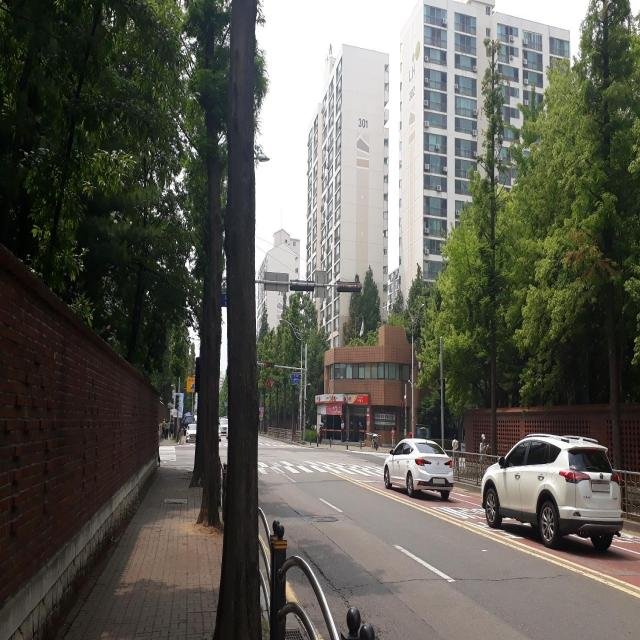횡단보도: (259, 457, 393, 478), (158, 446, 176, 463)
